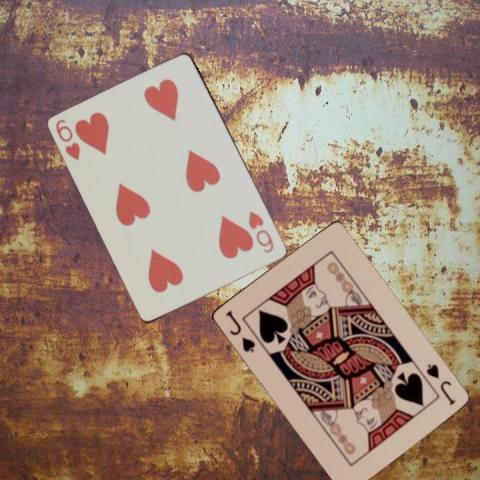6h: (246, 208, 276, 255), (53, 116, 82, 163)
Js: (222, 307, 257, 354), (422, 361, 456, 407)
